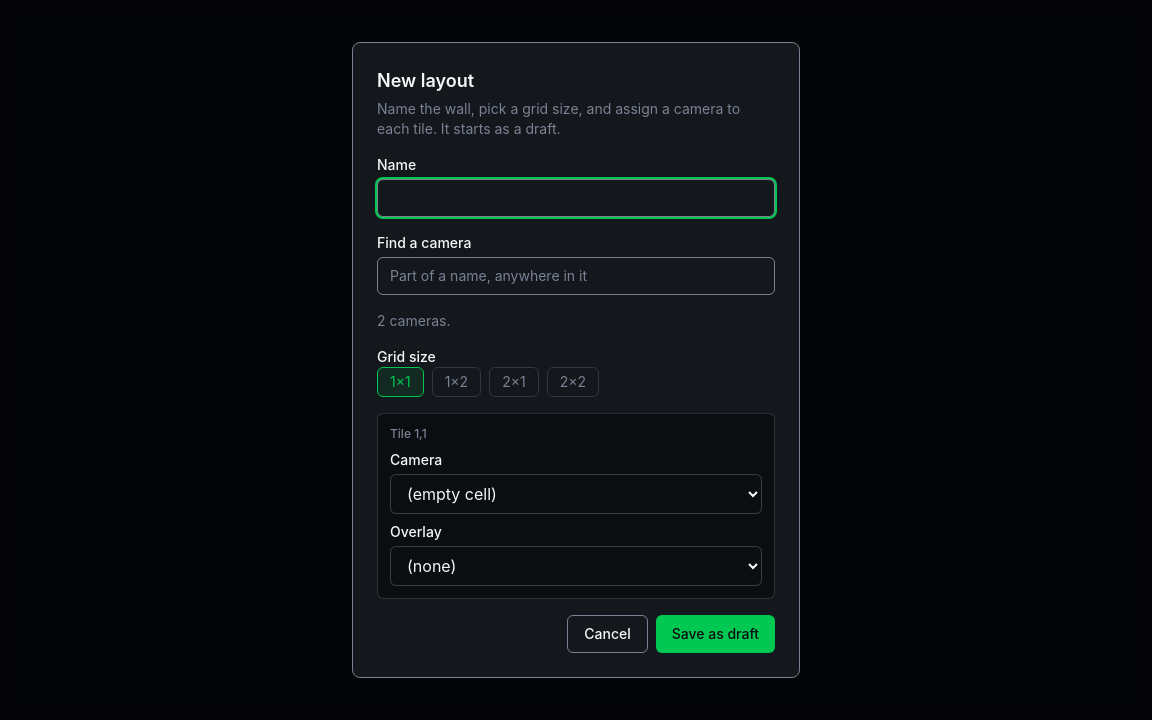
LayoutEditorDialog — create › Surfaces a validation error when the name is blank
Select "Line-1-Entrance" in the dropdown labelled "Camera": (576, 494) [390,474,762,514]
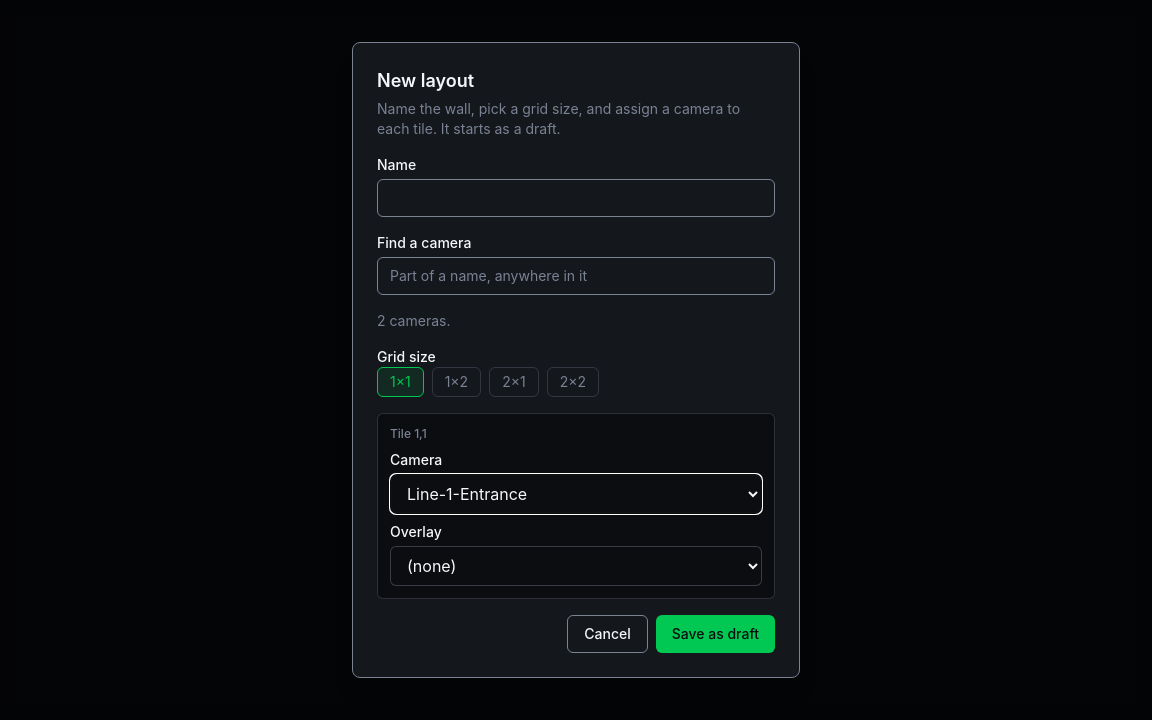
Click the button "Save as draft": (715, 634) [656,615,775,653]
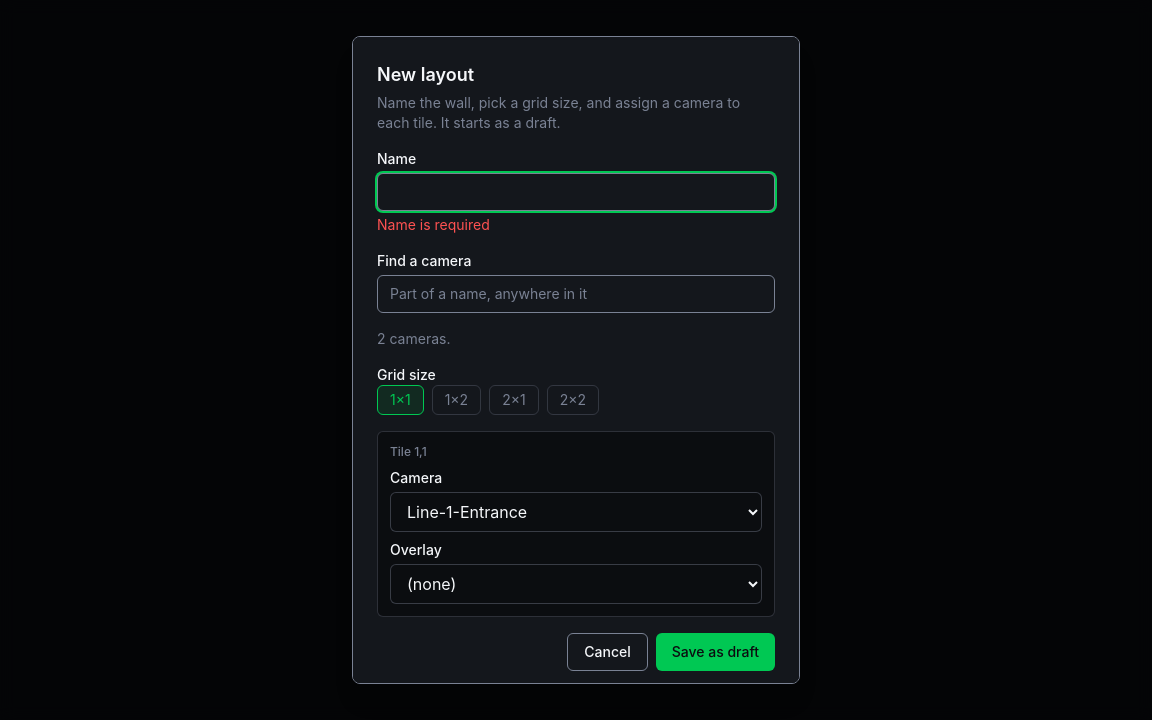
Now the text "Name is required" is shown, box [377,216,490,233]
